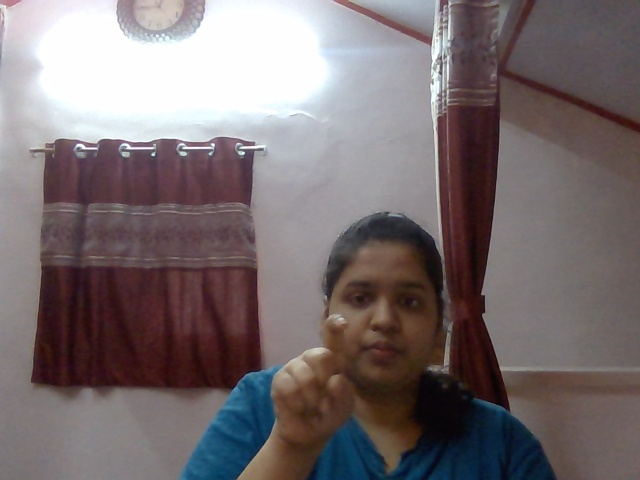x: (249, 310, 383, 445)
